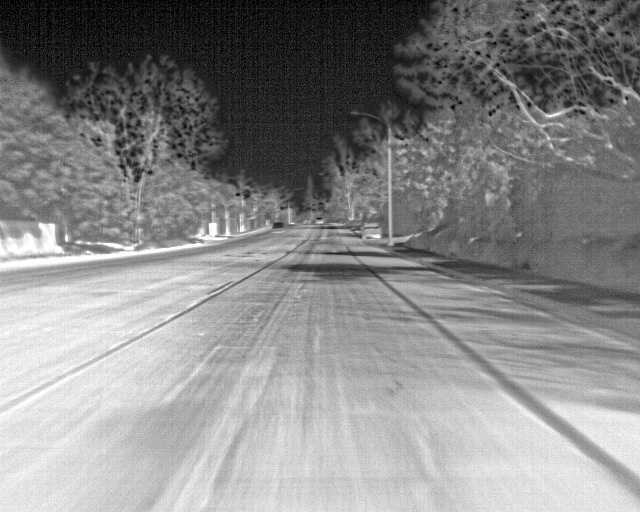vehicle: (360, 221, 384, 241)
